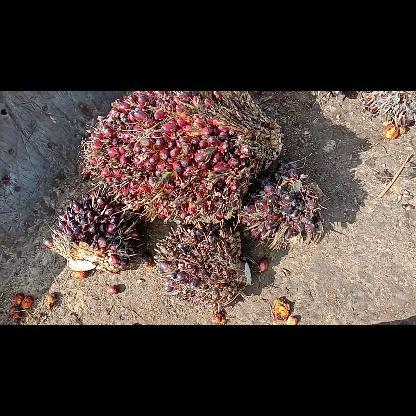TBS abnormal: (154, 224, 250, 302), (44, 194, 134, 274), (241, 170, 325, 242)
TBS masak: (84, 91, 284, 227)
